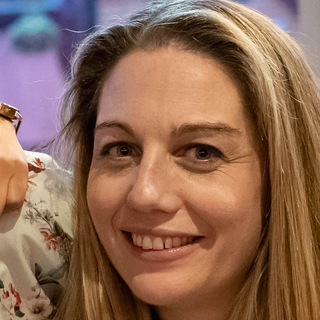eye: (177, 140, 227, 166), (100, 138, 143, 163)
